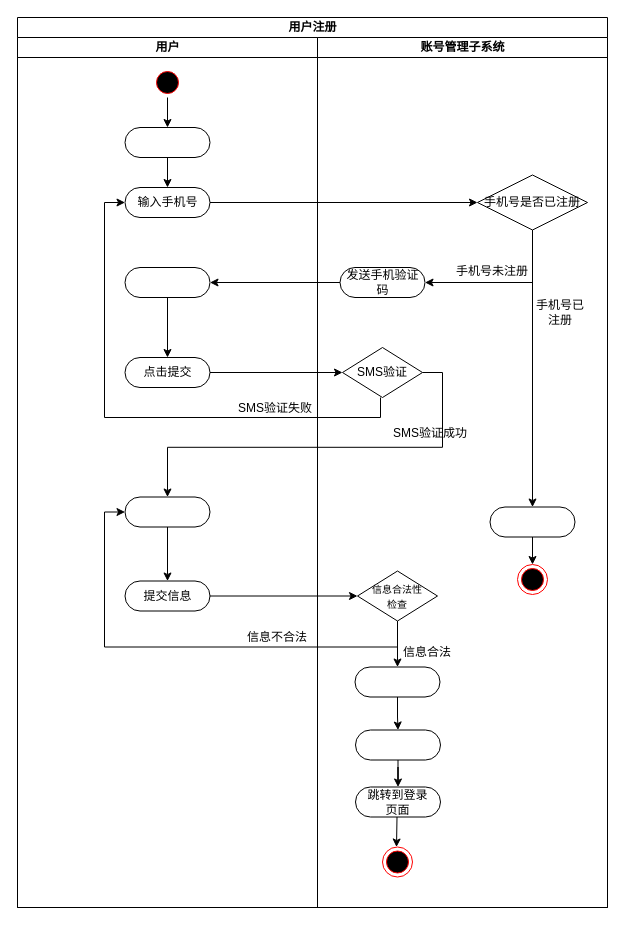
Image size: 625x925. Some labels were removed from this diagram. The centre of each missing label's shape, as x and y in pixels:
"填写基本信息" belongs at (167,511).
"存储信息" belongs at (397,681).
"成功注册提示" belongs at (397,744).
"提醒用户登录" belongs at (532,521).
"输入验证码" belongs at (167,282).
"进入注册页面" belongs at (167,142).
